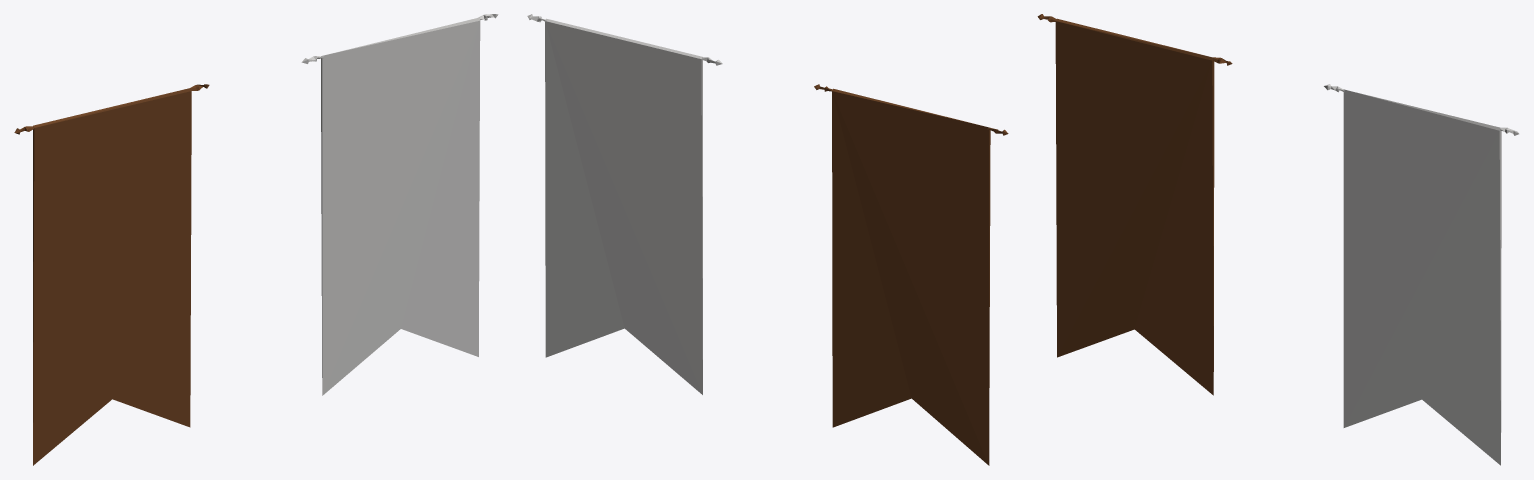
File: hanging-banner.lod2.glb
The picture shows the model from 3 angles, left to right: view 1: azimuth 30°, elevation 25°; view 2: azimuth 150°, elevation 25°; view 3: azimuth 330°, elevation 25°; orthographic projection.
Visible parts, largest first — view 1: Object_4; view 2: Object_4; view 3: Object_4.
Part boxes in pixels (x1=…): Object_4: x1=14, y1=14, x2=498, y2=465; Object_4: x1=527, y1=14, x2=1008, y2=465; Object_4: x1=1037, y1=14, x2=1518, y2=465.
Bounding box in the file's own units: 5.64 × 3.8 × 0.0709.
